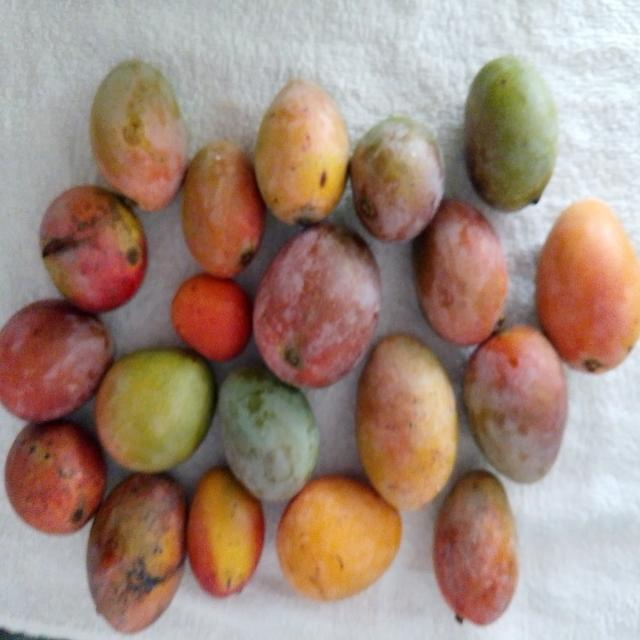mango: (252, 222, 382, 389), (535, 198, 640, 375), (277, 474, 405, 602), (252, 74, 355, 231), (87, 56, 188, 212), (461, 53, 559, 213), (39, 181, 150, 319), (433, 470, 521, 632), (410, 199, 510, 340), (0, 416, 111, 536), (349, 115, 445, 245), (180, 140, 268, 274)
